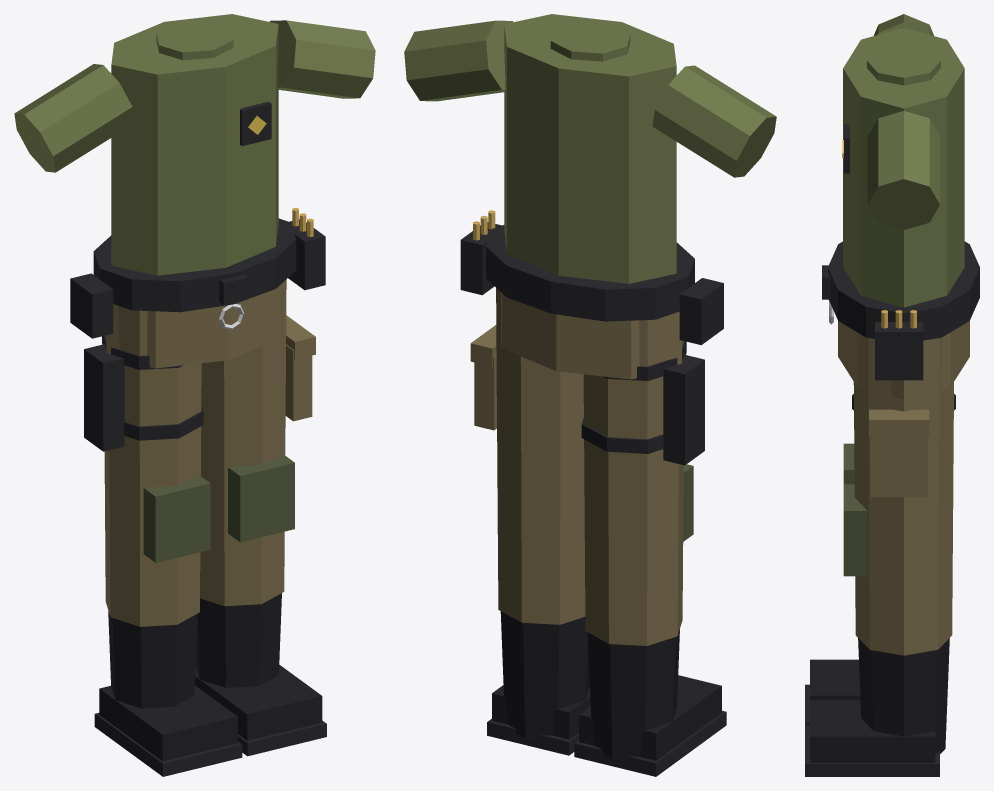
File: outfit_battle_royale.glb
3 views of the same model, side by side, from view 1: azimuth 30°, elevation 25°; view 2: azimuth 150°, elevation 25°; view 3: azimuth 270°, elevation 25° (orthographic). The views are drawn at different scales.
Visible parts, largest first — view 1: Tee_Body, Pants_Leg_L, Pants_Leg_R, Tee_Sleeve_L, Belt, Pants_Hips, Boot_Shaft_L, Boot_Shaft_R, Tee_Sleeve_R, Boot_Foot_L, Boot_Foot_R, KneePad_L (+12 smaller); view 2: Tee_Body, Pants_Leg_L, Pants_Leg_R, Belt, Boot_Shaft_L, Boot_Shaft_R, Tee_Sleeve_L, Pants_Hips, Tee_Sleeve_R, Holster, Boot_Foot_L, Tee_Collar (+10 smaller); view 3: Pants_Leg_R, Tee_Body, Tee_Sleeve_R, Boot_Shaft_R, Belt, Boot_Foot_R, Cargo_Pocket, Pants_Hips, Pouch_R, Tee_Collar, Boot_Sole_R, Boot_Foot_L (+4 smaller).
Part boxes in pixels (x1,y1,x2,y2): Tee_Body: (111,14,278,275); Pants_Leg_L: (104,306,201,626); Pants_Leg_R: (200,279,286,606); Tee_Sleeve_L: (14,64,134,172); Belt: (93,218,296,312); Pants_Hips: (106,284,281,368); Boot_Shaft_L: (108,611,197,708); Boot_Shaft_R: (195,593,281,687); Tee_Sleeve_R: (270,20,375,98); Boot_Foot_L: (99,685,237,761); Boot_Foot_R: (195,665,322,740); KneePad_L: (143,474,210,562); Tee_Body: (504,14,676,283); Pants_Leg_L: (583,315,683,645); Pants_Leg_R: (496,288,585,624); Belt: (486,225,694,321); Boot_Shaft_L: (588,629,679,760); Boot_Shaft_R: (500,611,589,739); Tee_Sleeve_L: (652,65,776,177); Pants_Hips: (501,292,681,379); Tee_Sleeve_R: (404,20,512,101); Holster: (663,354,704,465); Boot_Foot_L: (579,675,721,760); Tee_Collar: (550,21,630,61); Pants_Leg_R: (853,337,953,655); Tee_Body: (843,28,964,307); Tee_Sleeve_R: (867,111,939,229); Boot_Shaft_R: (858,638,949,754); Belt: (828,241,979,340); Boot_Foot_R: (810,700,935,762); Cargo_Pocket: (870,437,927,497); Pants_Hips: (838,321,969,399); Pouch_R: (875,322,923,380); Tee_Collar: (867,43,940,85); Boot_Sole_R: (805,725,939,776); Boot_Foot_L: (810,659,860,700).
Size of the model in its own units: 0.8092 by 1.55 by 0.3625.
